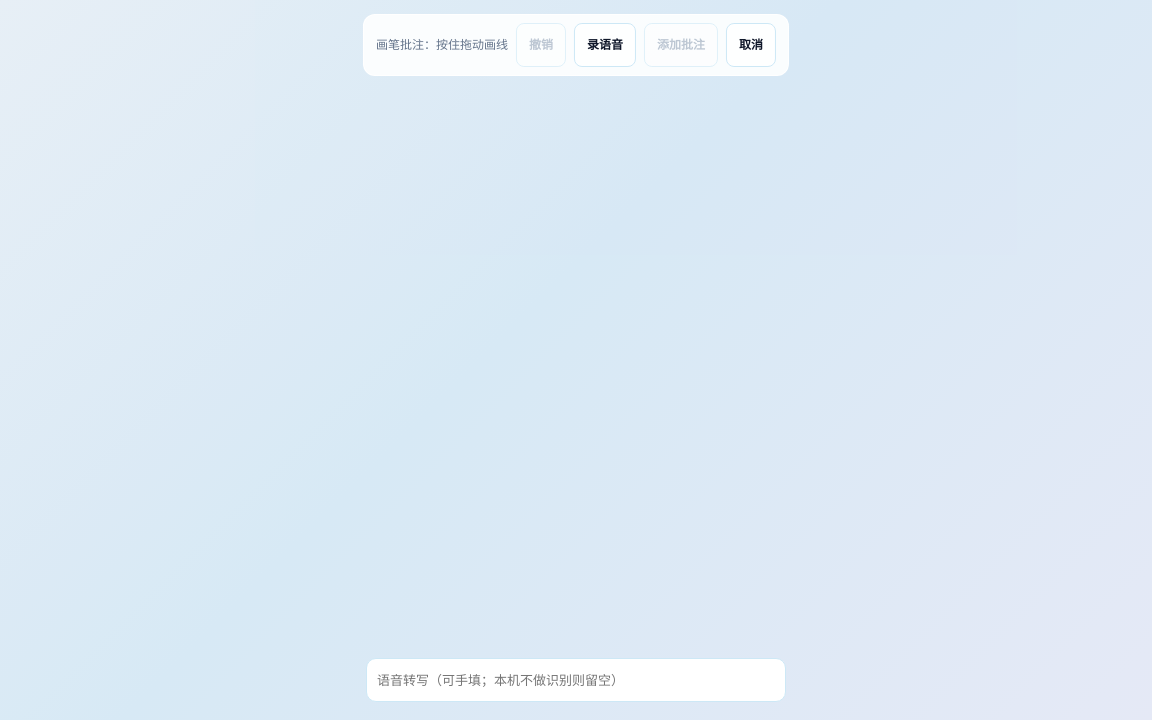
it: AnnotationCanvas · A-点哪评哪-07 › 撤销移除最后一笔
Step 1. Press the mouse on the element with test id "annotation-canvas" → (576, 360), box [0, 0, 1151, 719]
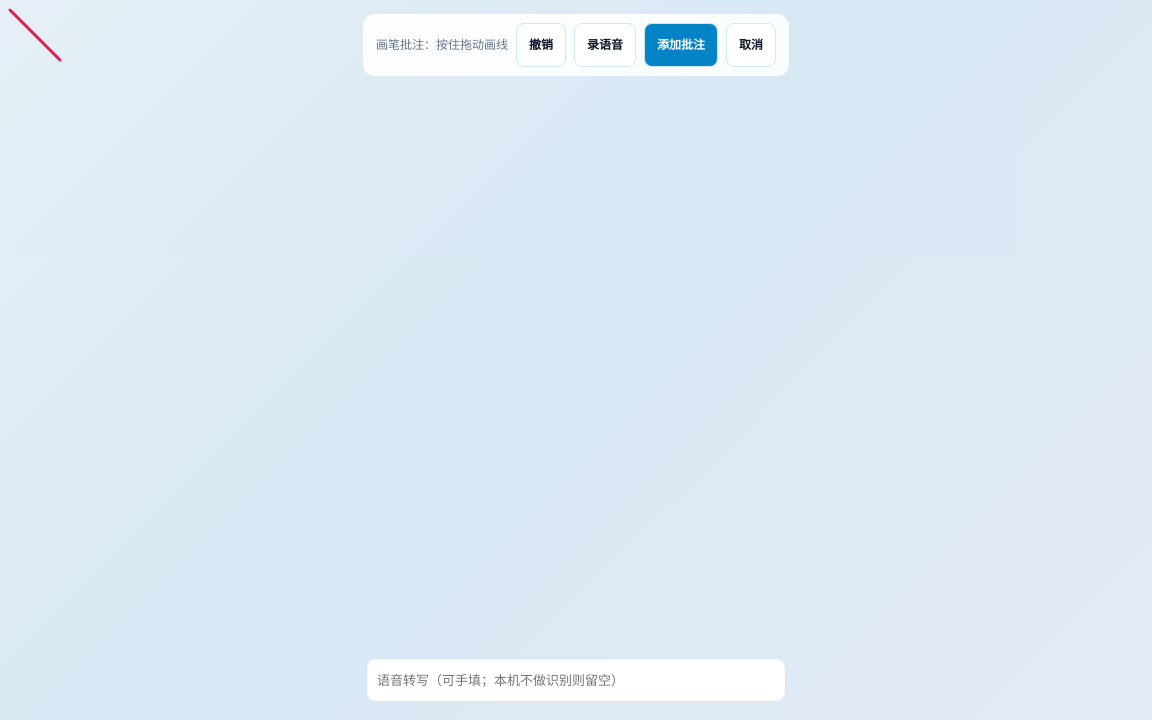
Check: the button with test id "annotation-submit" is enabled, box [644, 23, 718, 67]
Step 2. Click the button with test id "annotation-undo" → (541, 45), box [516, 23, 566, 67]
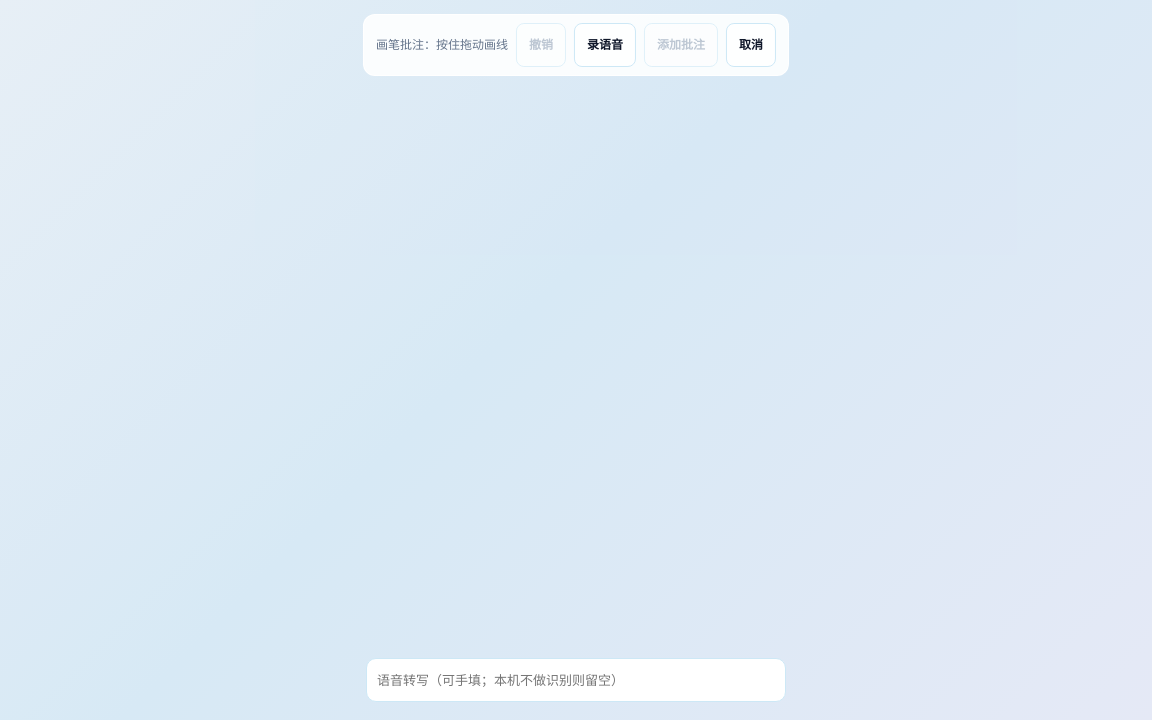
Check: the button with test id "annotation-submit" is disabled, box [644, 23, 718, 67]
